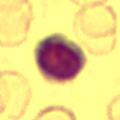lymphocyte: (30, 31, 87, 82)
